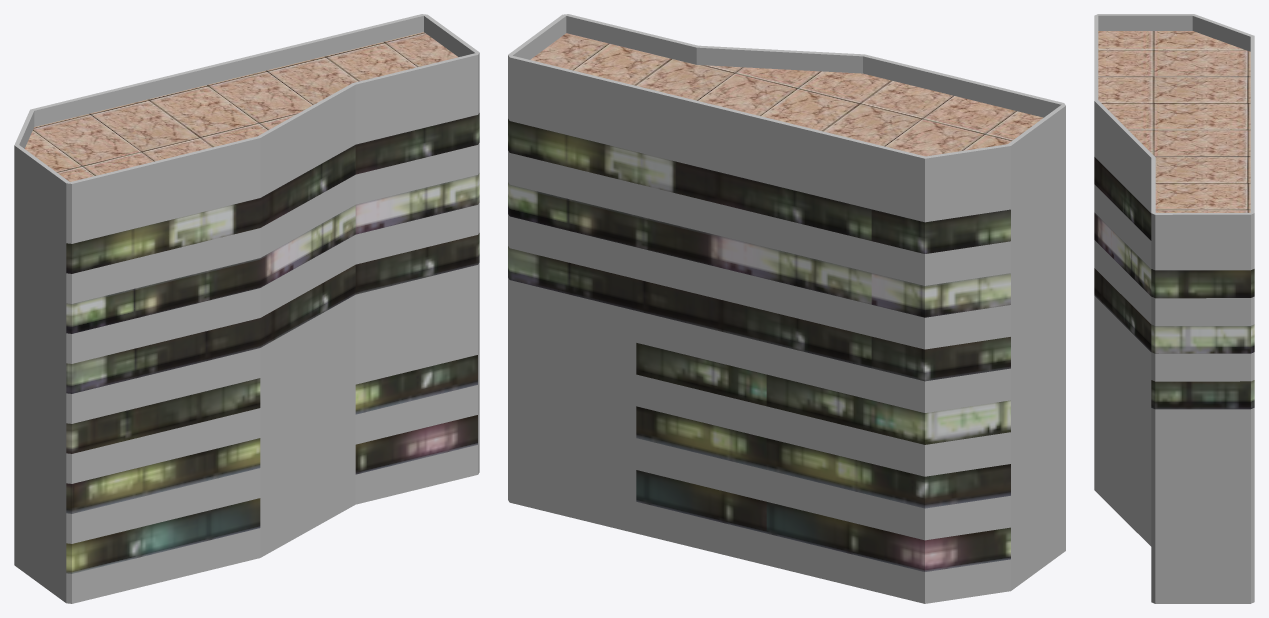
File: hirise_11_8f.fbx
3 views of the same model, side by side, from view 1: azimuth 30°, elevation 25°; view 2: azimuth 150°, elevation 25°; view 3: azimuth 270°, elevation 25° (orthographic). The views are drawn at different scales.
Parts seen in each view (by area): view 1: hirise_11_8f; view 2: hirise_11_8f; view 3: hirise_11_8f.
Boxes of the visible parts, x1,y1,x2,y2 form: hirise_11_8f: [14, 14, 479, 603]; hirise_11_8f: [508, 14, 1065, 603]; hirise_11_8f: [1094, 14, 1254, 603].
Size of the model in its own units: 24.11 by 21.78 by 8.14.
